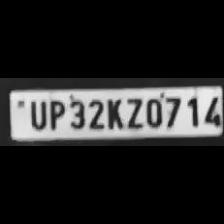0: (143, 96, 163, 128)
1: (182, 94, 200, 128)
2: (86, 96, 104, 130)
3: (66, 96, 86, 130)
4: (200, 93, 222, 127)
7: (162, 94, 182, 128)
K: (103, 96, 123, 130)
P: (45, 97, 65, 130)
U: (26, 98, 46, 130)
Z: (124, 94, 142, 130)
